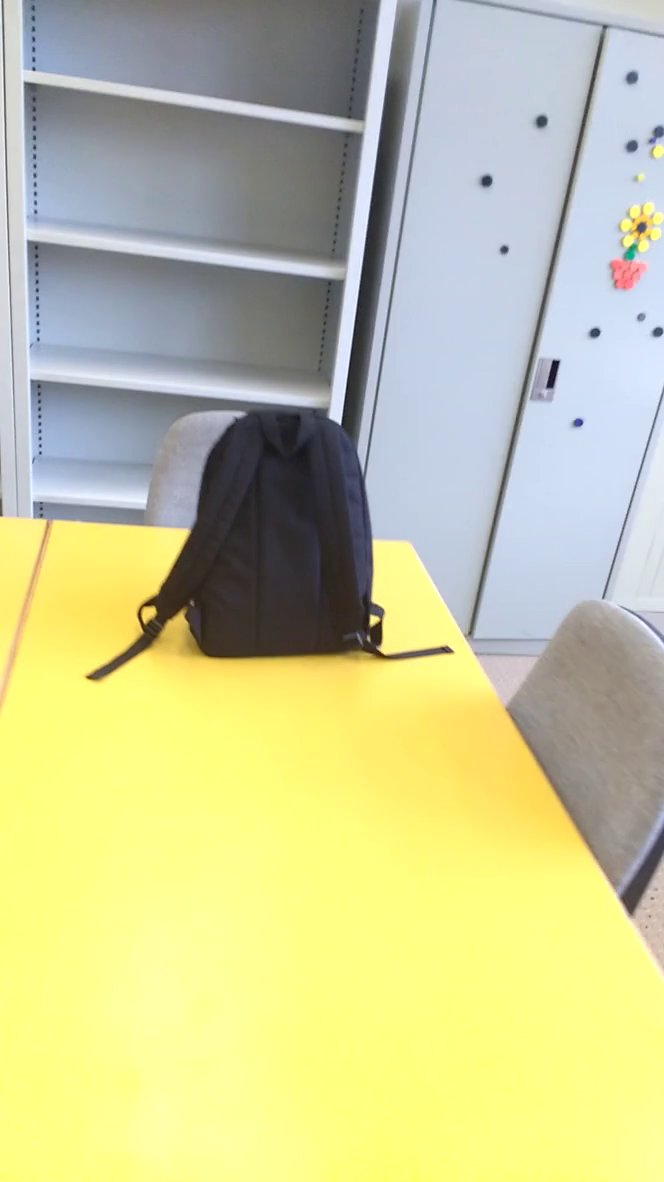bag: (86, 403, 458, 685)
chair: (501, 584, 664, 938)
